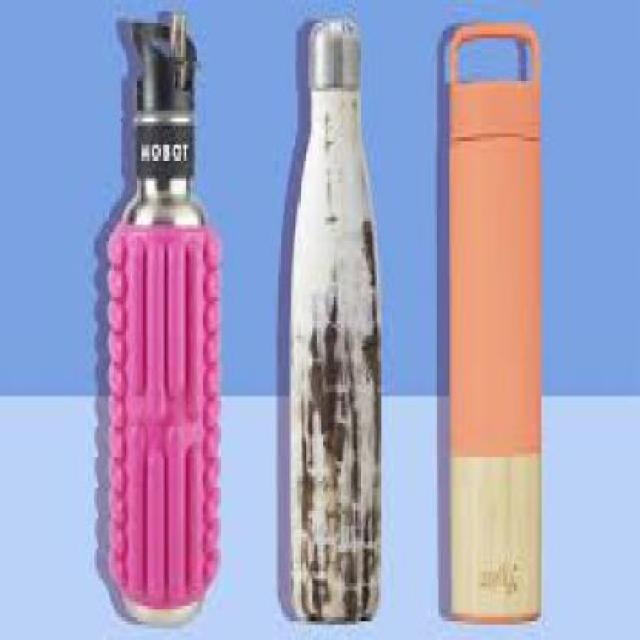Drinking: (428, 0, 566, 637), (291, 0, 400, 622)
